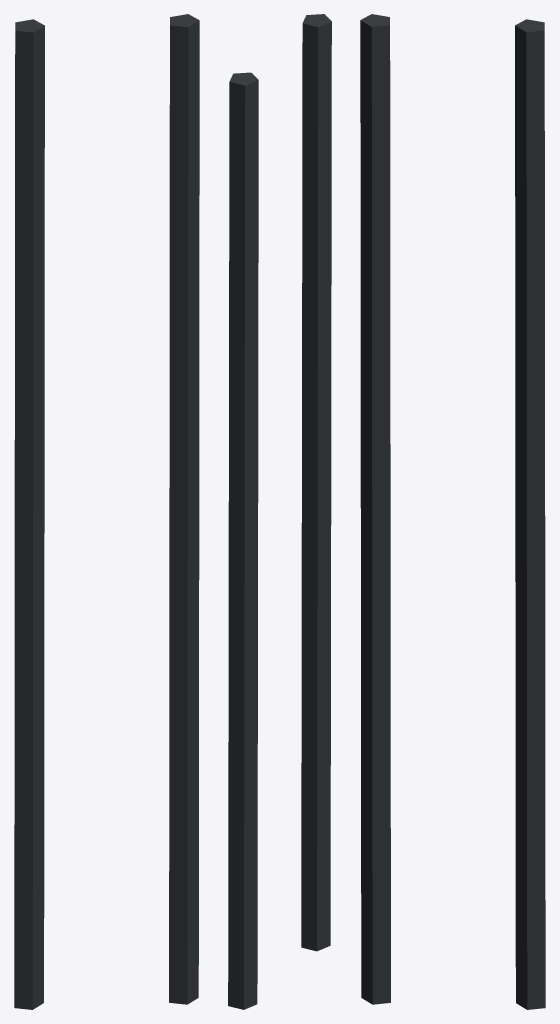
File: SM_Bld_Crane_Hook_Wire_01_1024.obj
3 renders of one model, left to right at view 1: azimuth 90°, elevation 25°; view 2: azimuth 150°, elevation 25°; view 3: azimuth 270°, elevation 25°, orthographic. The views are drawn at different scales.
Parts seen in each view (by area): view 1: SM_Bld_Crane_Hook_Wire_01_0; view 2: SM_Bld_Crane_Hook_Wire_01_0; view 3: SM_Bld_Crane_Hook_Wire_01_0.
Boxes of the visible parts, <box> form: SM_Bld_Crane_Hook_Wire_01_0: <box>14,14,199,1009</box>; SM_Bld_Crane_Hook_Wire_01_0: <box>228,14,331,1009</box>; SM_Bld_Crane_Hook_Wire_01_0: <box>360,14,545,1009</box>.
Size of the model in its own units: 0.0436 by 1.47 by 0.2504.
1 material, 1 textured.
